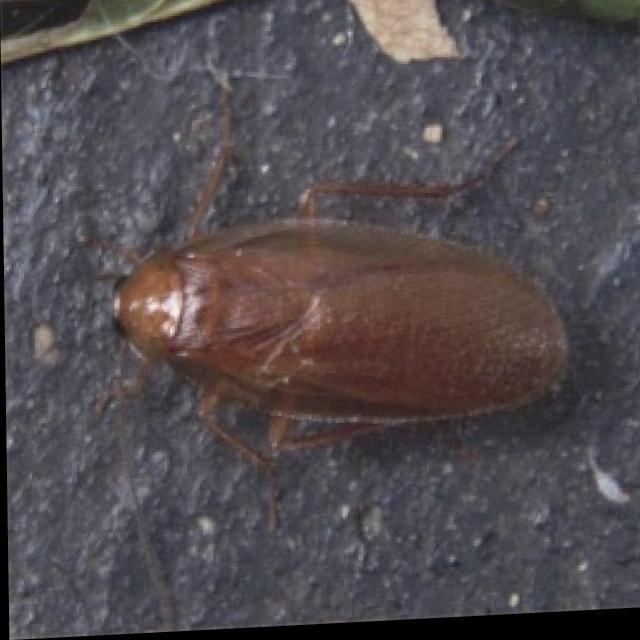cockroach: (78, 70, 574, 533)
